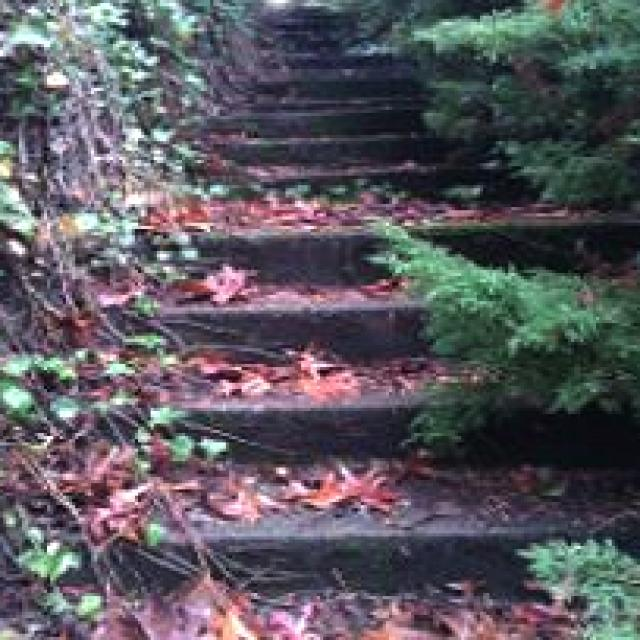upstair: (61, 208, 619, 575)
